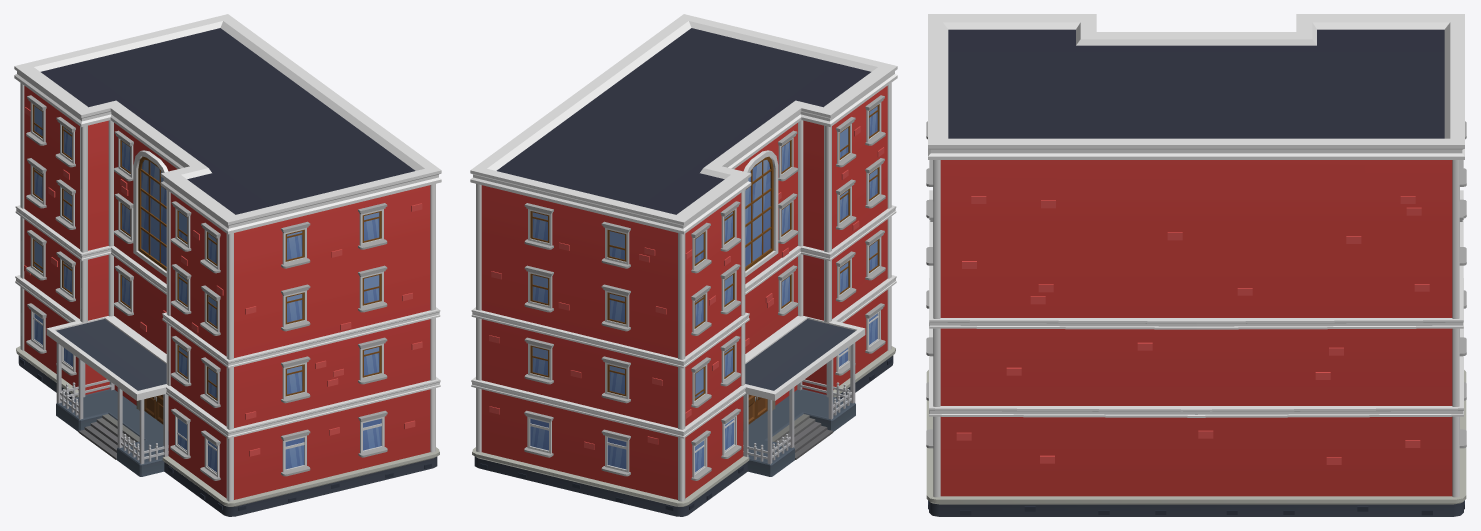
The model's file is Building_5_3_C.fbx.
3 renders of one model, left to right at view 1: azimuth 30°, elevation 25°; view 2: azimuth 150°, elevation 25°; view 3: azimuth 270°, elevation 25°, orthographic. The views are drawn at different scales.
Visible parts, largest first — view 1: Building_5_3_C; view 2: Building_5_3_C; view 3: Building_5_3_C.
Boxes of the visible parts, x1,y1,x2,y2 form: Building_5_3_C: (14,14,441,516); Building_5_3_C: (470,14,897,516); Building_5_3_C: (926,14,1466,516).
Size of the model in its own units: 1251 by 1450 by 1908.
